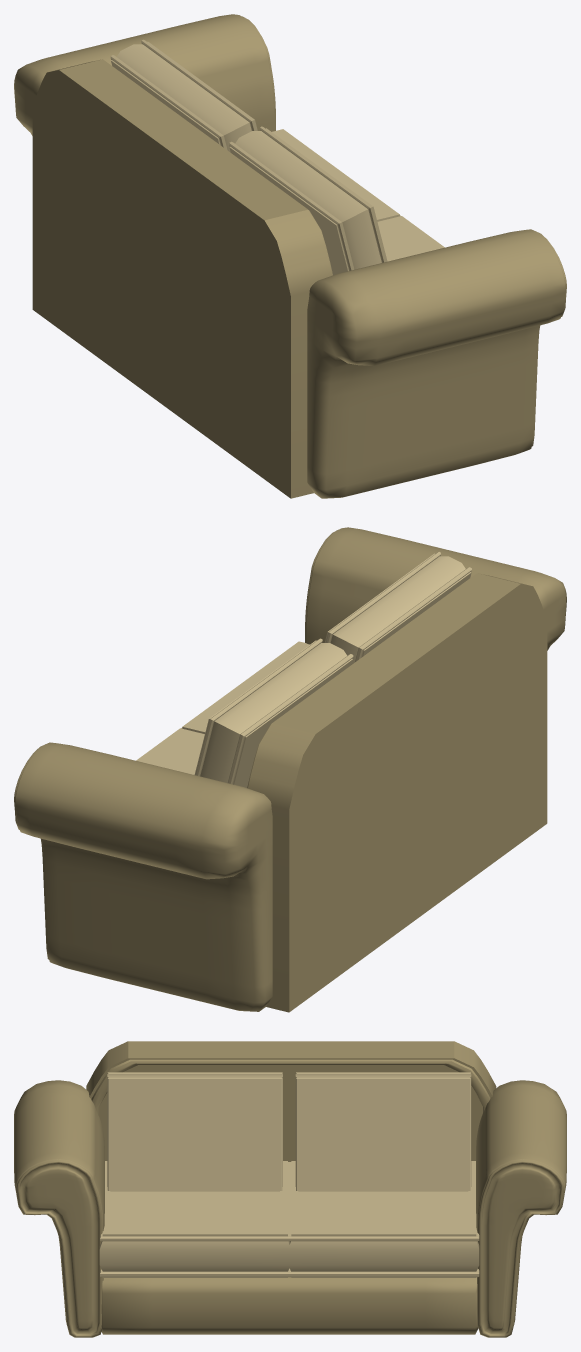
File: Sofa.fbx
3 views of the same model, one above another, from view 1: azimuth 30°, elevation 25°; view 2: azimuth 150°, elevation 25°; view 3: azimuth 270°, elevation 25° (orthographic). The views are drawn at different scales.
Parts seen in each view (by area): view 1: pCube161, pCube163, pCube164, pCube150, pCube151, pCube146, pCube152; view 2: pCube161, pCube164, pCube163, pCube151, pCube150, pCube152, pCube146; view 3: pCube145, pCube151, pCube150, pCube152, pCube146, pCube164, pCube163, pCube161.
Part boxes in pixels (box(x1,y1,x2,y2)): pCube161: box(32, 59, 332, 498); pCube163: box(307, 229, 566, 498); pCube164: box(14, 14, 275, 135); pCube150: box(229, 126, 387, 275); pCube151: box(110, 39, 257, 152); pCube146: box(377, 216, 444, 261); pCube152: box(272, 129, 400, 221); pCube161: box(247, 573, 547, 1012); pCube164: box(14, 742, 272, 1011); pCube163: box(305, 527, 566, 650); pCube151: box(194, 638, 353, 787); pCube150: box(324, 552, 471, 664); pCube152: box(136, 728, 204, 774); pCube146: box(181, 641, 309, 733); pCube145: box(101, 1277, 478, 1334); pCube151: box(295, 1072, 471, 1191); pCube150: box(107, 1072, 282, 1191); pCube152: box(288, 1161, 479, 1277); pCube146: box(99, 1161, 290, 1277); pCube164: box(476, 1080, 566, 1337); pCube163: box(14, 1080, 104, 1337); pCube161: box(86, 1041, 496, 1161).
Bounding box in the file's own units: 136 × 141 × 339.
